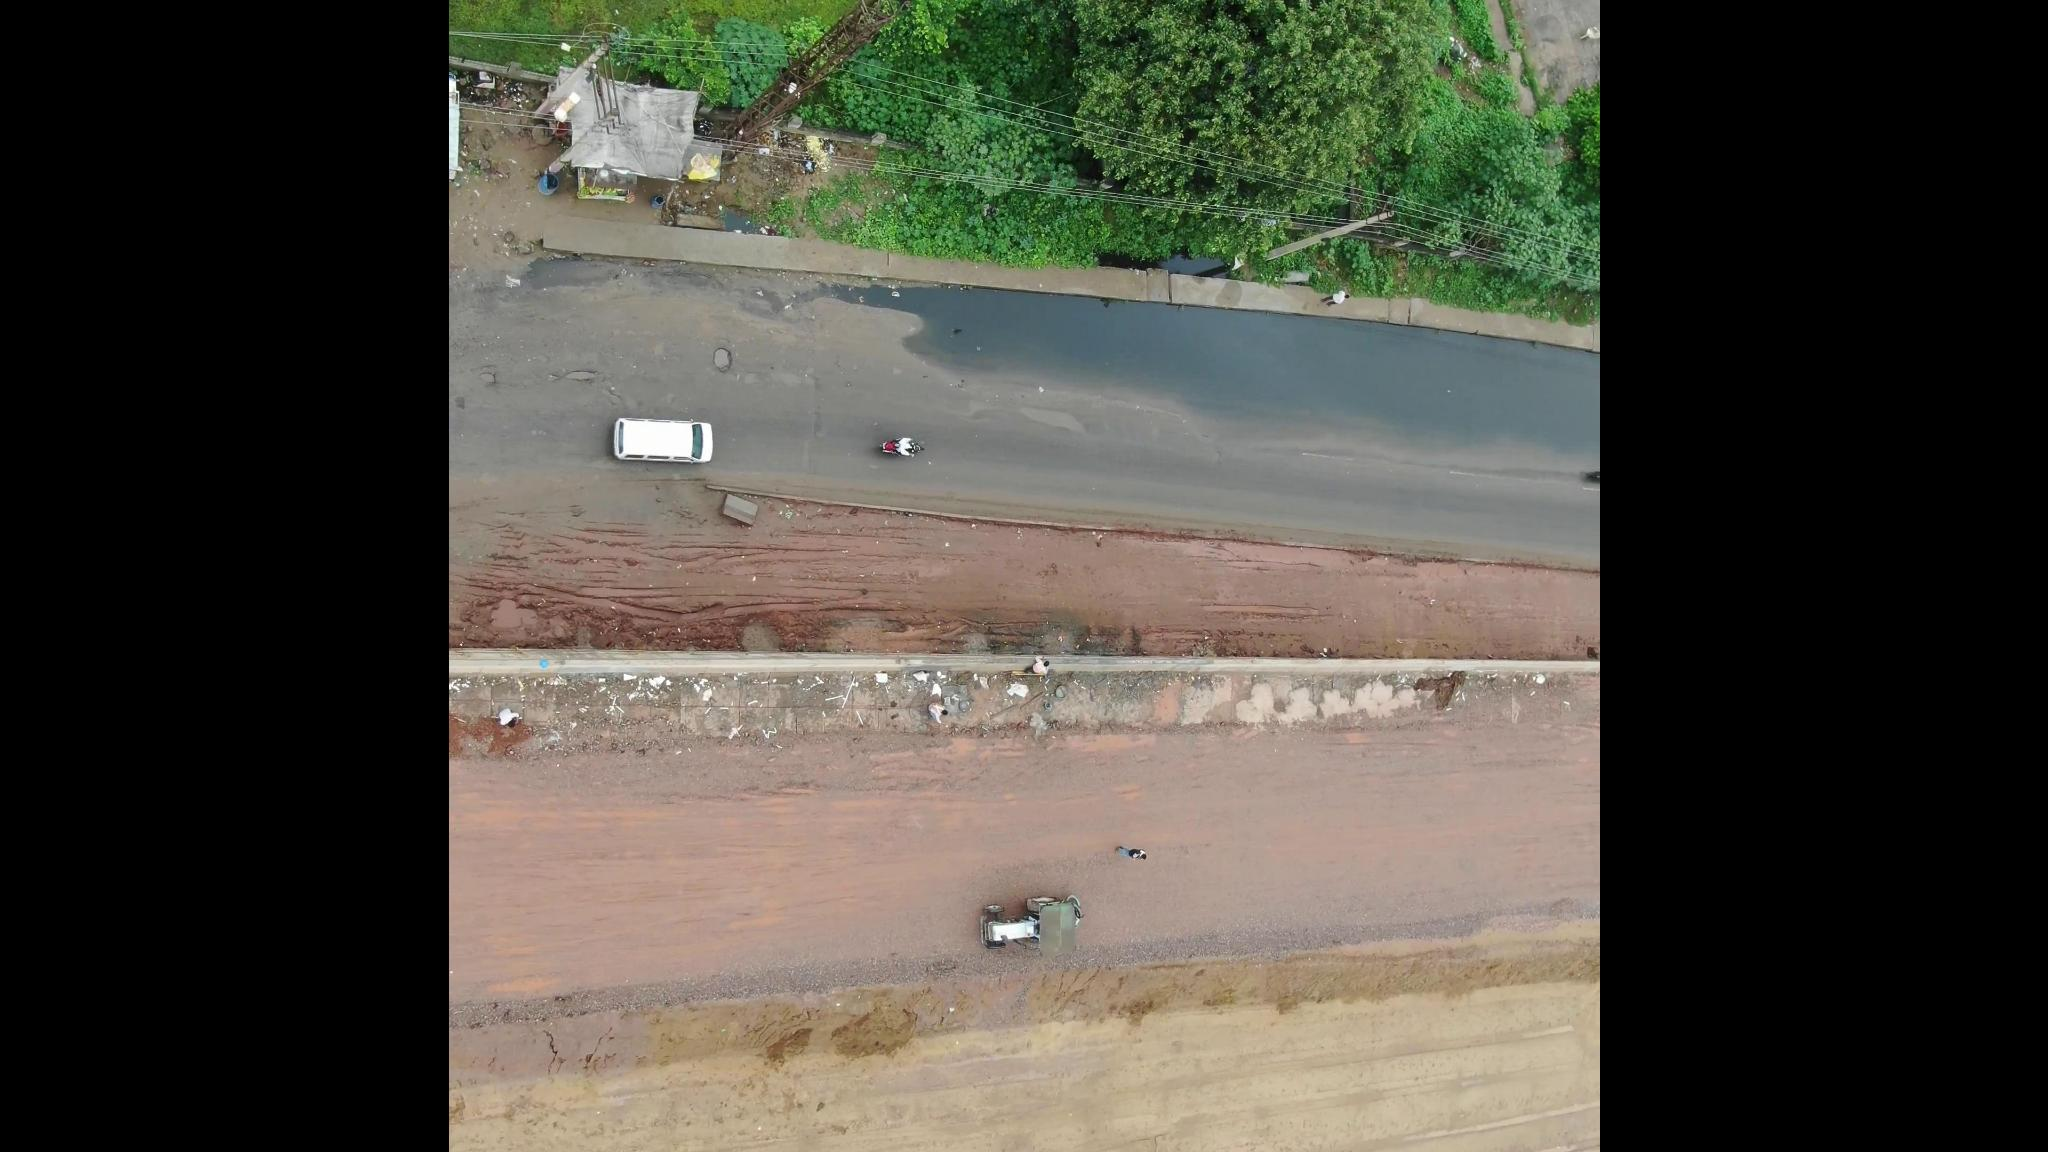Potholes: (464, 369, 603, 409), (980, 405, 1086, 459), (693, 343, 743, 398)
